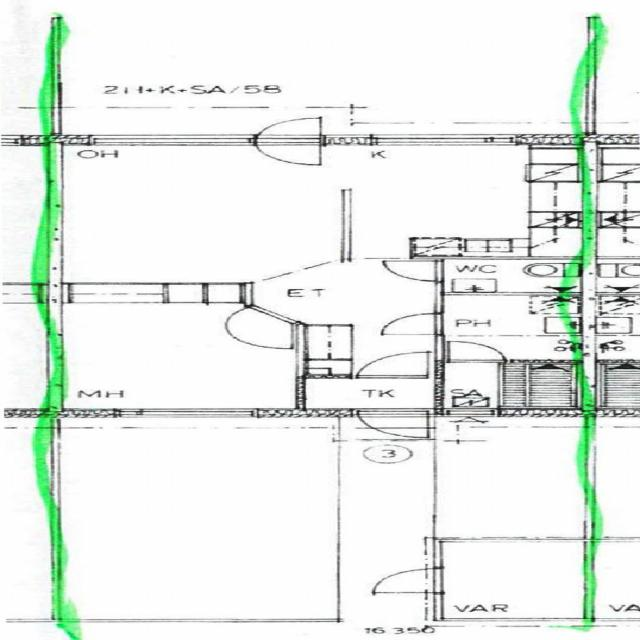door: (205, 306, 298, 340), (358, 409, 428, 443), (255, 135, 320, 169), (255, 111, 320, 145), (357, 349, 428, 378), (371, 569, 442, 592), (448, 339, 504, 364), (380, 314, 442, 334), (380, 260, 442, 280)
